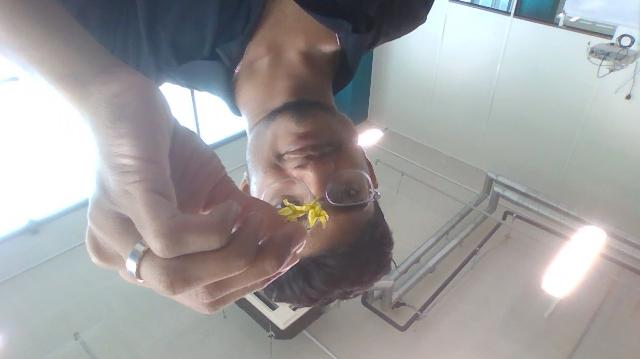Anthesis: (306, 203, 329, 229), (277, 202, 305, 221)
